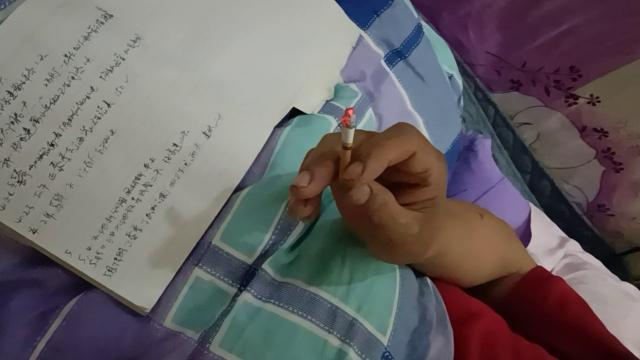Smoking: (338, 108, 358, 184)
